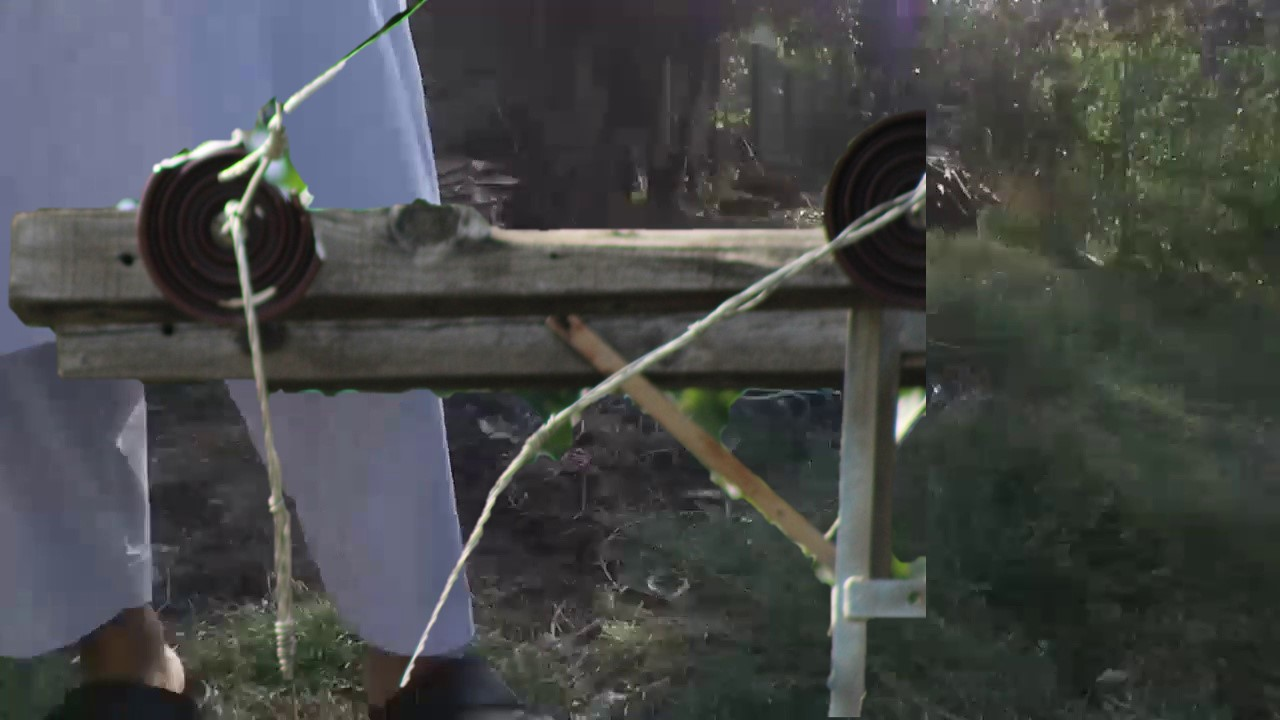defect_disc: (135, 127, 333, 337)
